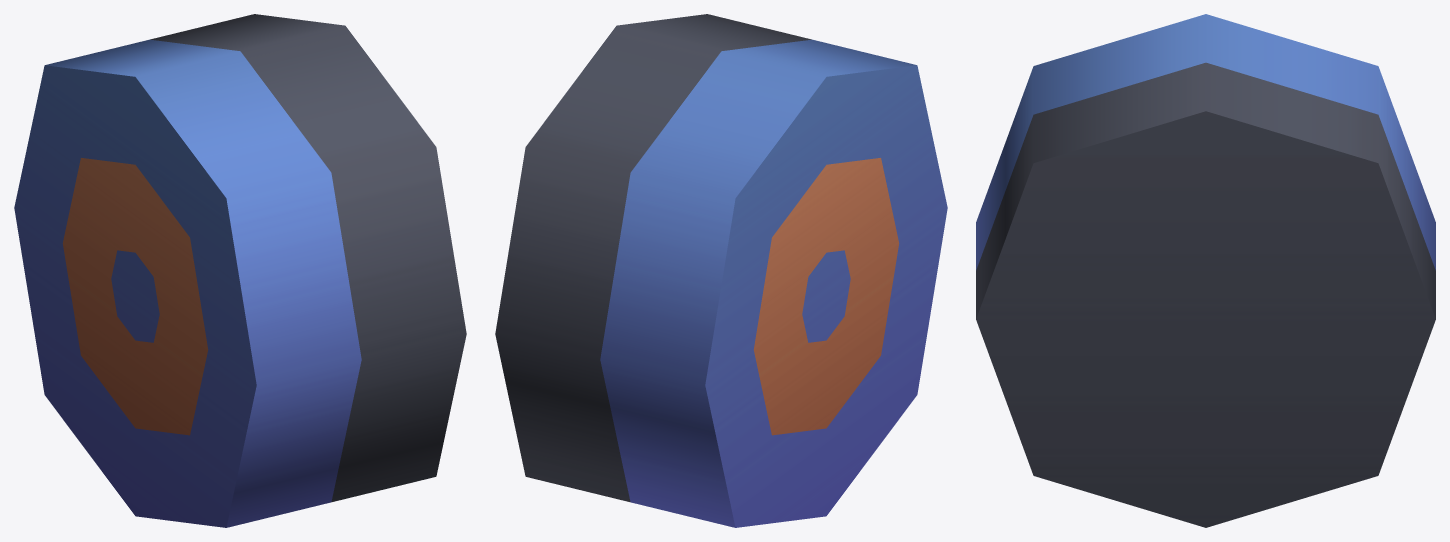
Rendered from target-small.glb.
The picture shows the model from 3 angles, left to right: view 1: azimuth 30°, elevation 25°; view 2: azimuth 150°, elevation 25°; view 3: azimuth 270°, elevation 25°; orthographic projection. The views are drawn at different scales.
Parts seen in each view (by area): view 1: target-small; view 2: target-small; view 3: target-small.
Part boxes in pixels (left/top/right/bottom): target-small: left=14, top=14, right=466, bottom=527; target-small: left=495, top=14, right=947, bottom=527; target-small: left=976, top=14, right=1435, bottom=527.
Bounding box in the file's own units: 0.1 × 0.2 × 0.2.
Materials: 1 (1 with a texture image).
